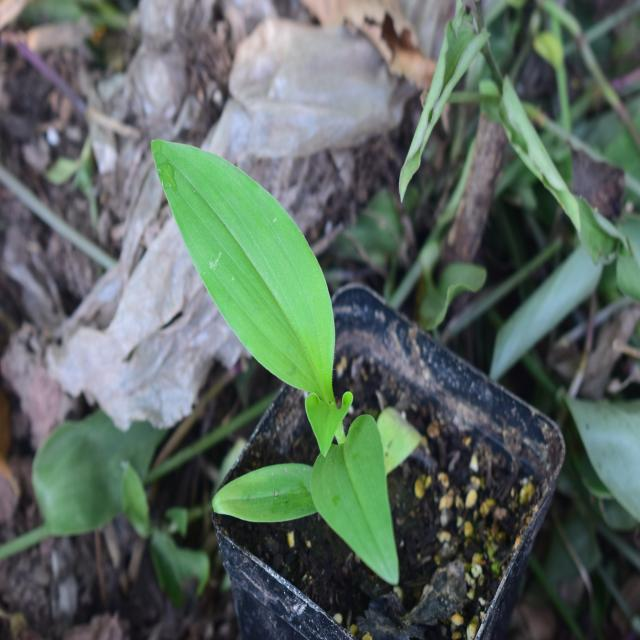Common Dayflower: (146, 124, 400, 580)
